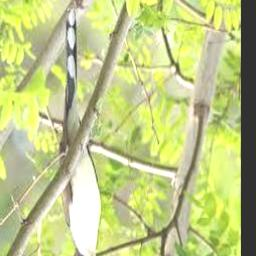Cuckoo: (59, 8, 103, 256)
